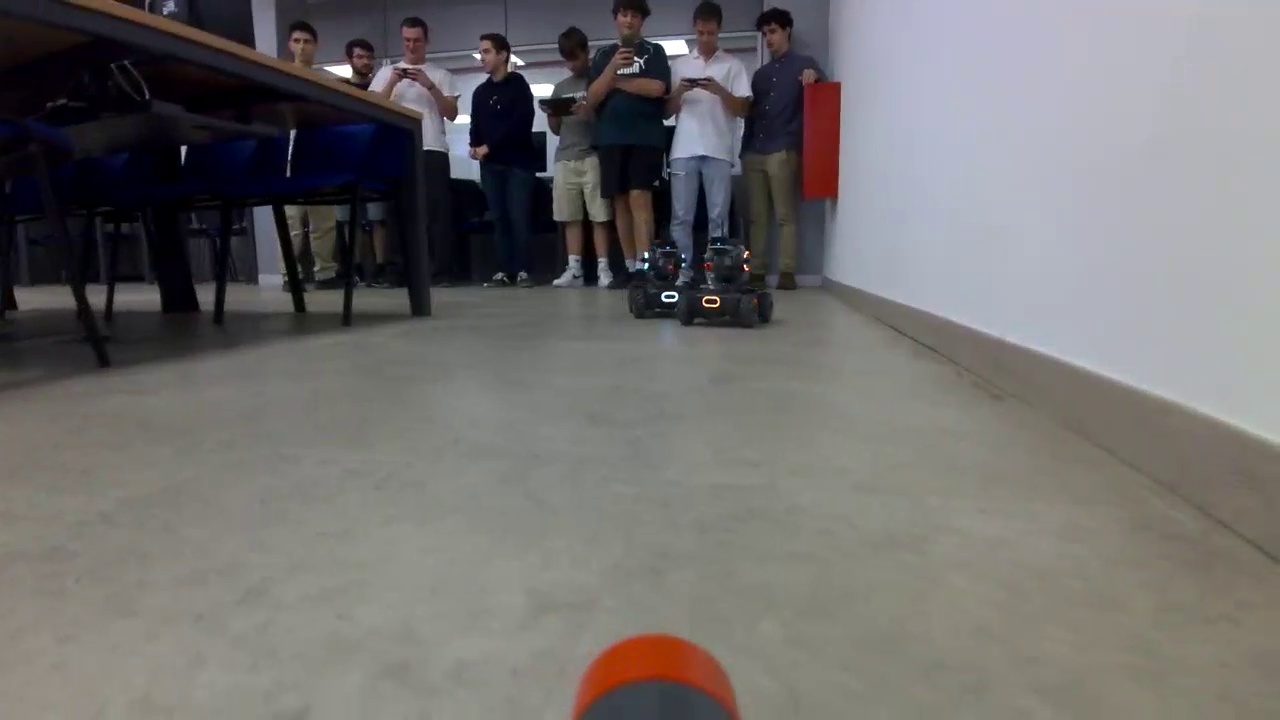robot: (678, 242, 773, 322), (638, 242, 695, 315)
